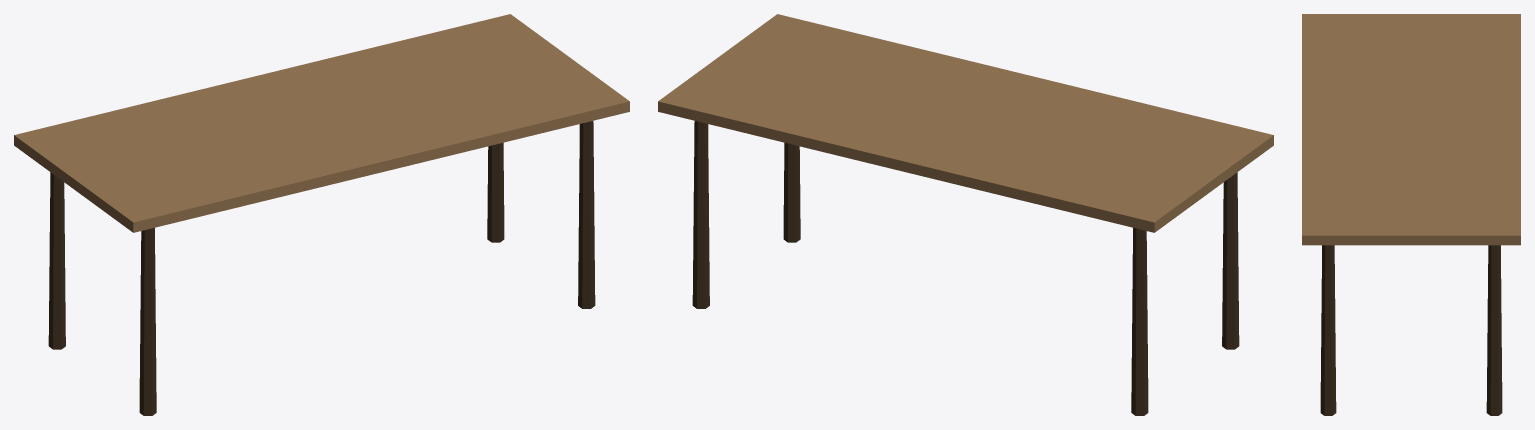
File: table.glb
3 renders of one model, left to right at view 1: azimuth 30°, elevation 25°; view 2: azimuth 150°, elevation 25°; view 3: azimuth 270°, elevation 25°, orthographic. The views are drawn at different scales.
Visible parts, largest first — view 1: table; view 2: table; view 3: table.
Part boxes in pixels (left/top/right/bottom): table: left=14, top=14, right=629, bottom=415; table: left=658, top=14, right=1273, bottom=415; table: left=1302, top=14, right=1520, bottom=415.
Size of the model in its own units: 1.83 by 0.7315 by 0.762.
